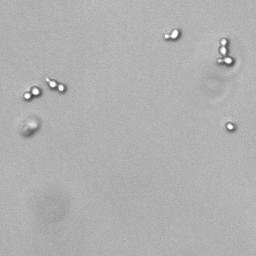budding: (44, 74, 70, 95), (21, 83, 42, 103), (162, 26, 183, 43)
cluster: (215, 34, 237, 69)
individual: (224, 120, 238, 135)
